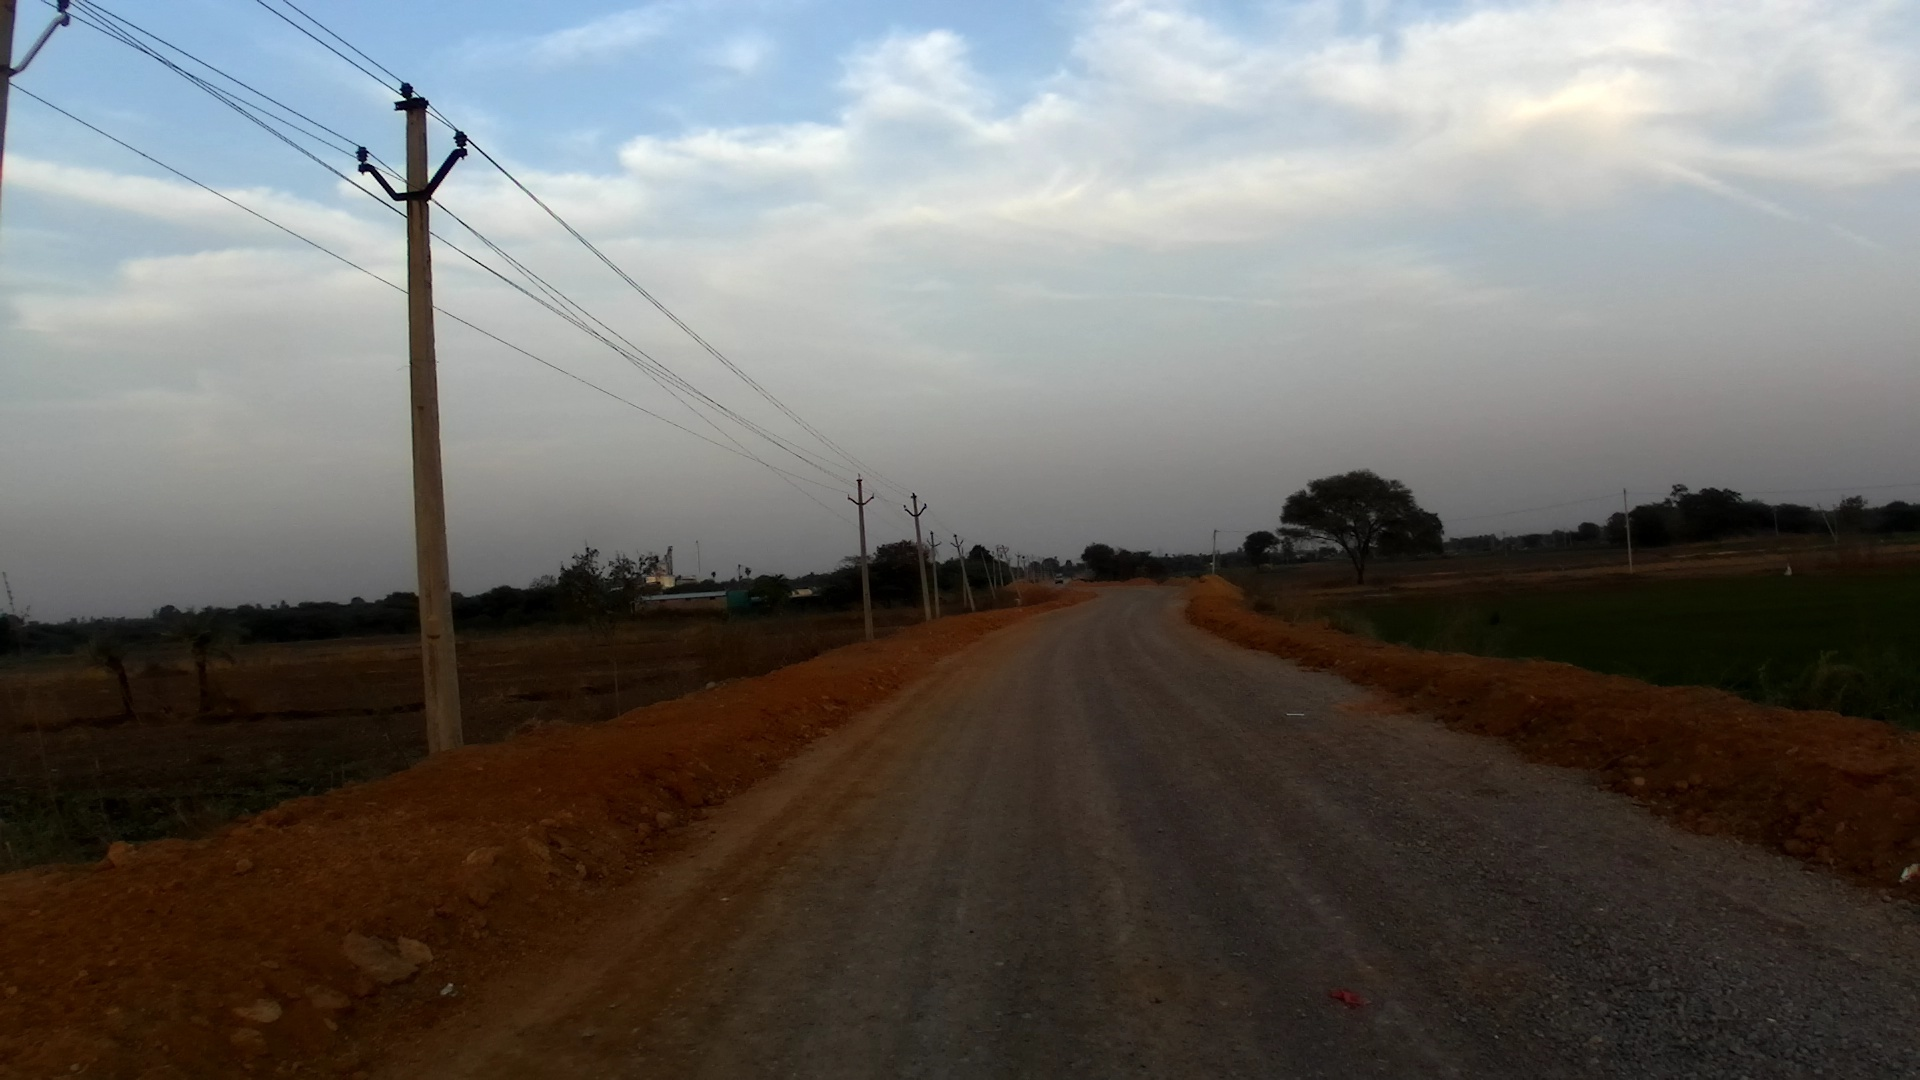car: (1054, 575, 1067, 588)
